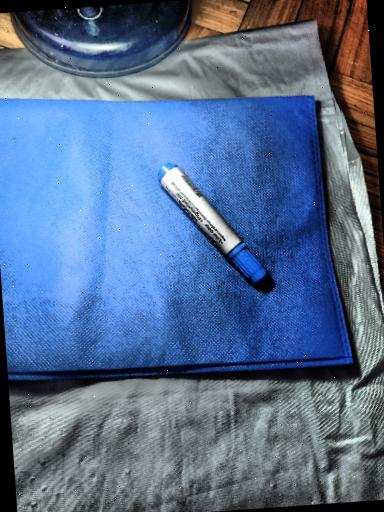marcador azul: (158, 164, 269, 284)
